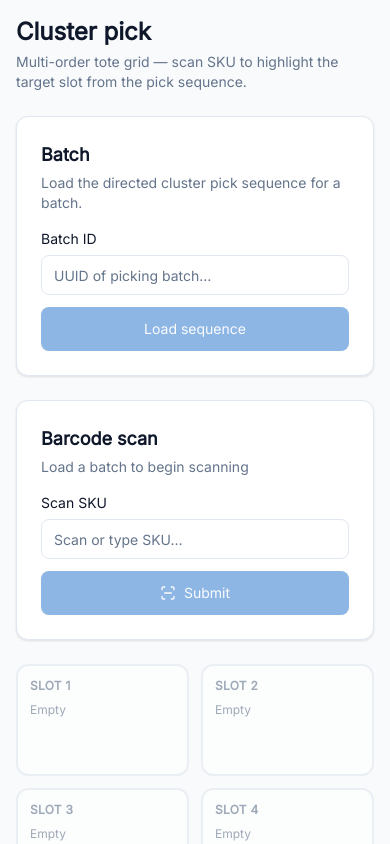
Test: ClusterPickerView › renders 12-slot grid when sequence loads
Type "batch-1" into the field with test id "cluster-pick-batch-input" at (195,275), box [41,255,349,295]
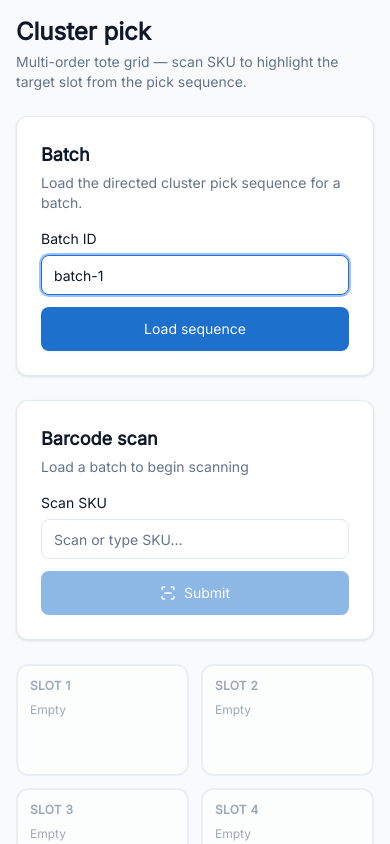
Click the button "Load sequence" at (195,329), box [41,307,349,351]
(page scrolled)
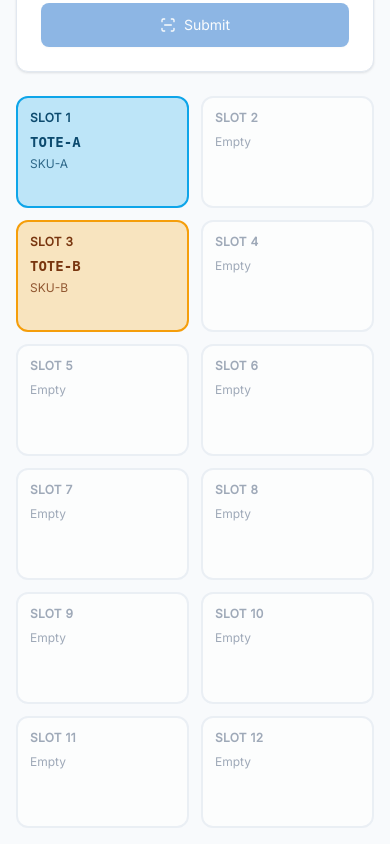
Expected: the text "TOTE-A" is shown, [30,134,81,150]
Expected: the text "TOTE-B" is shown, [30,258,81,274]
